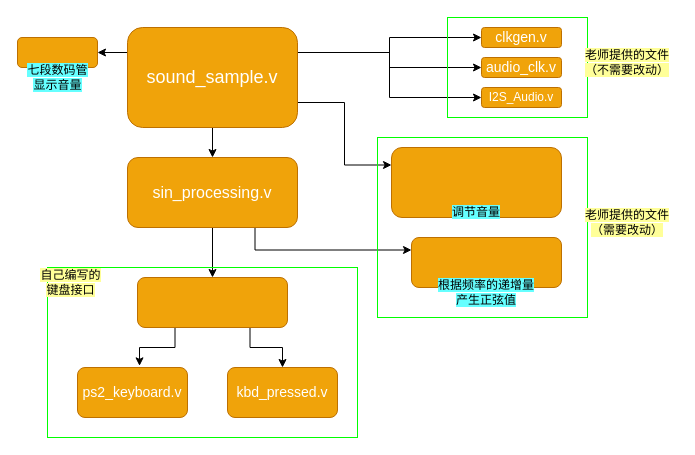
Some shapes in this 695 by 455 pixel diagram are drawn without their labels. The shapes that lost their labels are listed below. From the top down, each one's box as (x1, y1, x2, y2) in pixels, then its label:
(16, 36, 98, 68): seg_7_out.v
(390, 146, 562, 218): I2C_Audio_Config.v
(410, 236, 562, 288): Sin_Generator.v
(136, 276, 288, 328): out_kbd.v
